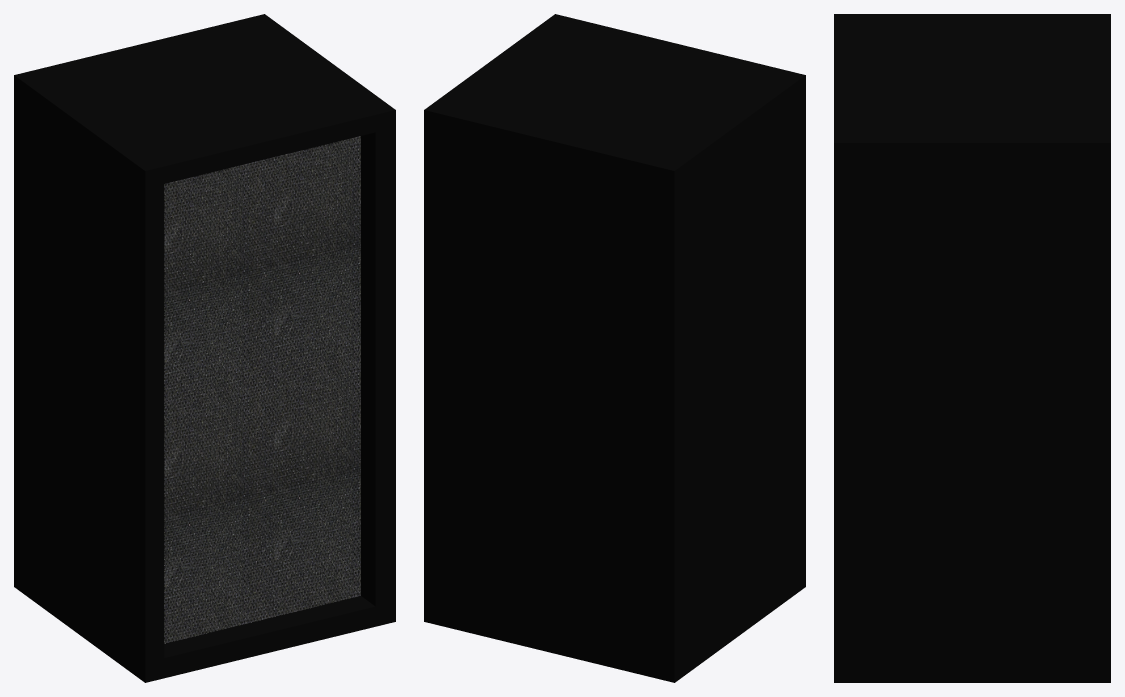
The model's file is smallbox.glb.
3 renders of one model, left to right at view 1: azimuth 30°, elevation 25°; view 2: azimuth 150°, elevation 25°; view 3: azimuth 270°, elevation 25°, orthographic. The views are drawn at different scales.
Parts seen in each view (by area): view 1: Cube.013; view 2: Cube.013; view 3: Cube.013.
Boxes of the visible parts, x1,y1,x2,y2 form: Cube.013: [14, 14, 395, 682]; Cube.013: [424, 14, 805, 682]; Cube.013: [834, 14, 1110, 682].
Size of the model in its own units: 0.7851 by 1.53 by 0.7116.
Materials: 2 (1 with a texture image).
